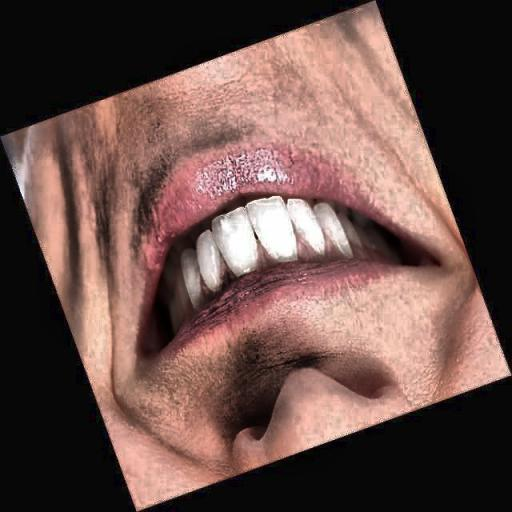Healthy: (124, 130, 402, 294)
